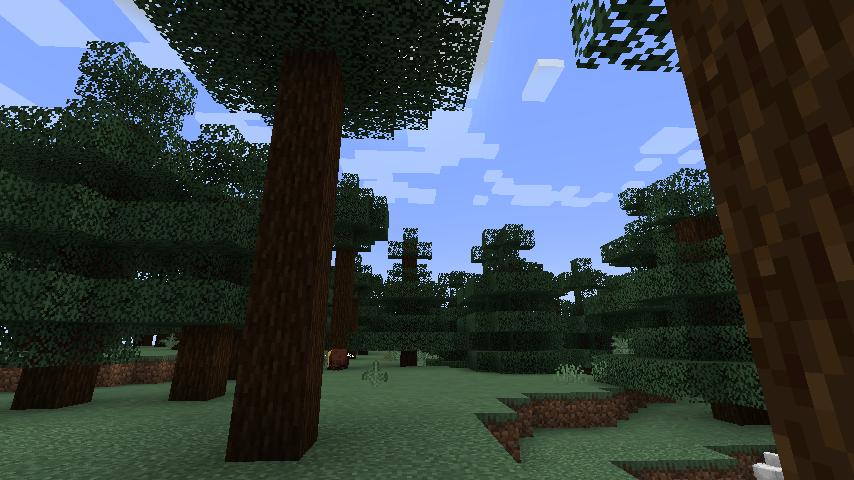bee: (323, 349, 354, 370)
